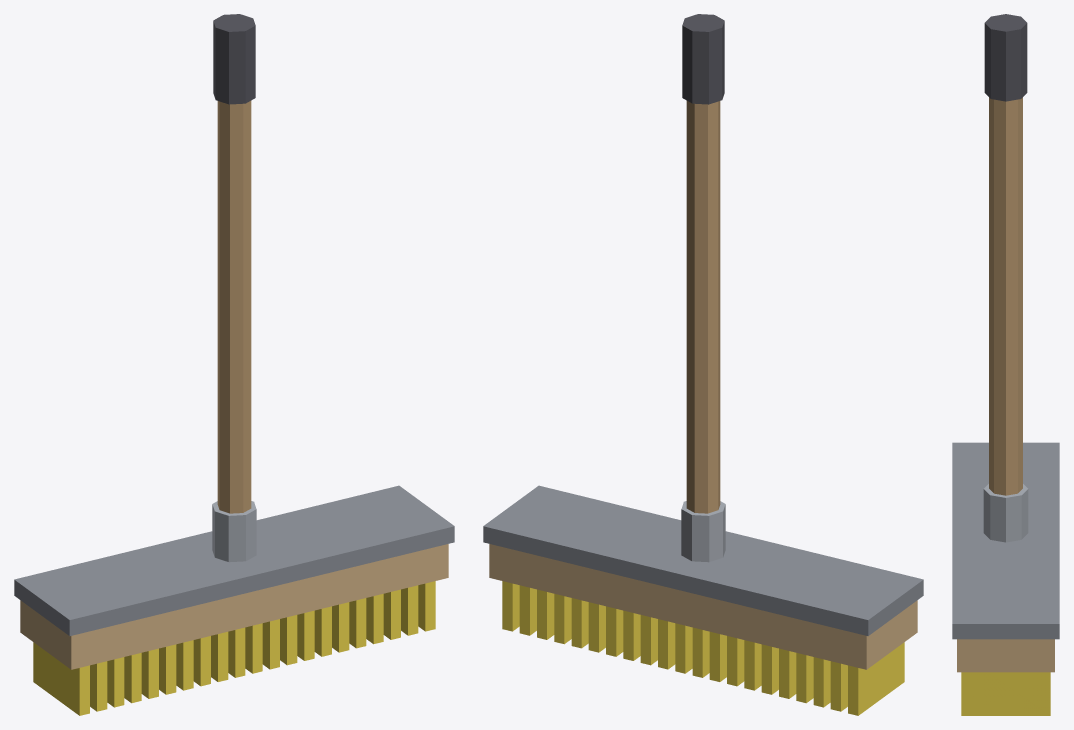
Rendered from broom_wide.glb.
The picture shows the model from 3 angles, left to right: view 1: azimuth 30°, elevation 25°; view 2: azimuth 150°, elevation 25°; view 3: azimuth 270°, elevation 25°; orthographic projection. The views are drawn at different scales.
Parts seen in each view (by area): view 1: broom_wide; view 2: broom_wide; view 3: broom_wide.
Part boxes in pixels (box(x1,y1,x2,y2)): broom_wide: box(14, 14, 454, 715); broom_wide: box(483, 14, 923, 715); broom_wide: box(952, 14, 1059, 715).
Size of the model in its own units: 1 by 1.57 by 0.25.
